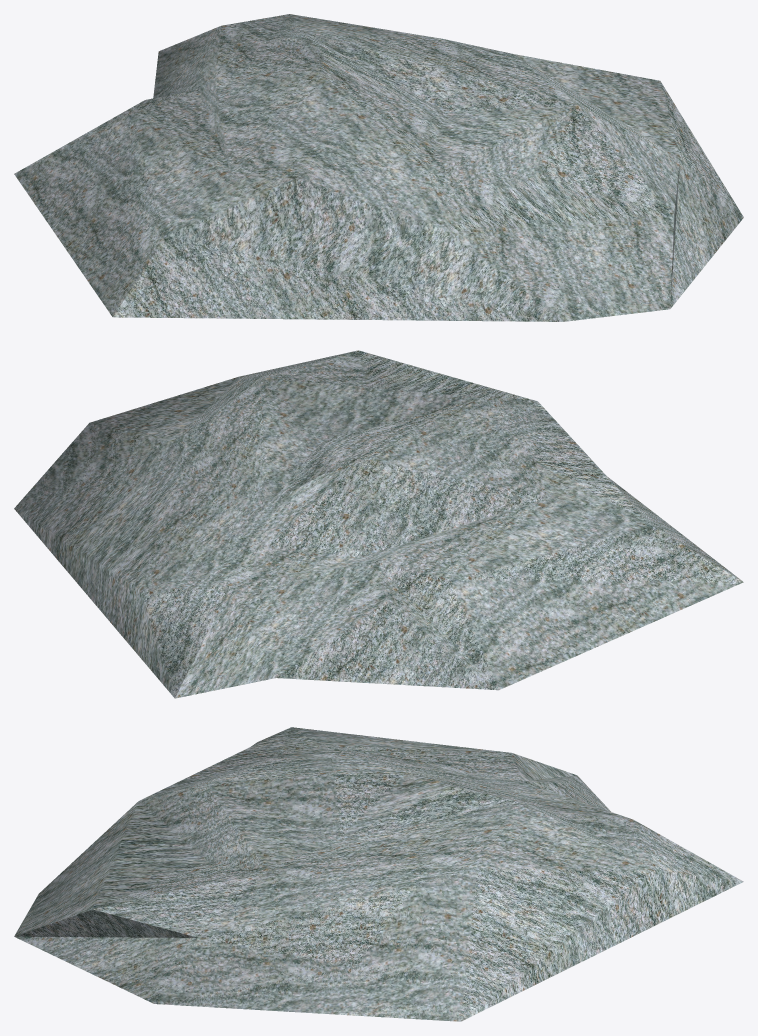
The model's file is rock_graniteslab_large_a1_l2.fbx.
3 renders of one model, top to bottom at view 1: azimuth 30°, elevation 25°; view 2: azimuth 150°, elevation 25°; view 3: azimuth 270°, elevation 25°, orthographic. The views are drawn at different scales.
Parts seen in each view (by area): view 1: mesh_node; view 2: mesh_node; view 3: mesh_node.
Boxes of the visible parts, <box> form: mesh_node: <box>14,14,743,321</box>; mesh_node: <box>14,350,743,698</box>; mesh_node: <box>14,727,743,1021</box>.
Size of the model in its own units: 4.18 by 0.7134 by 4.58.
